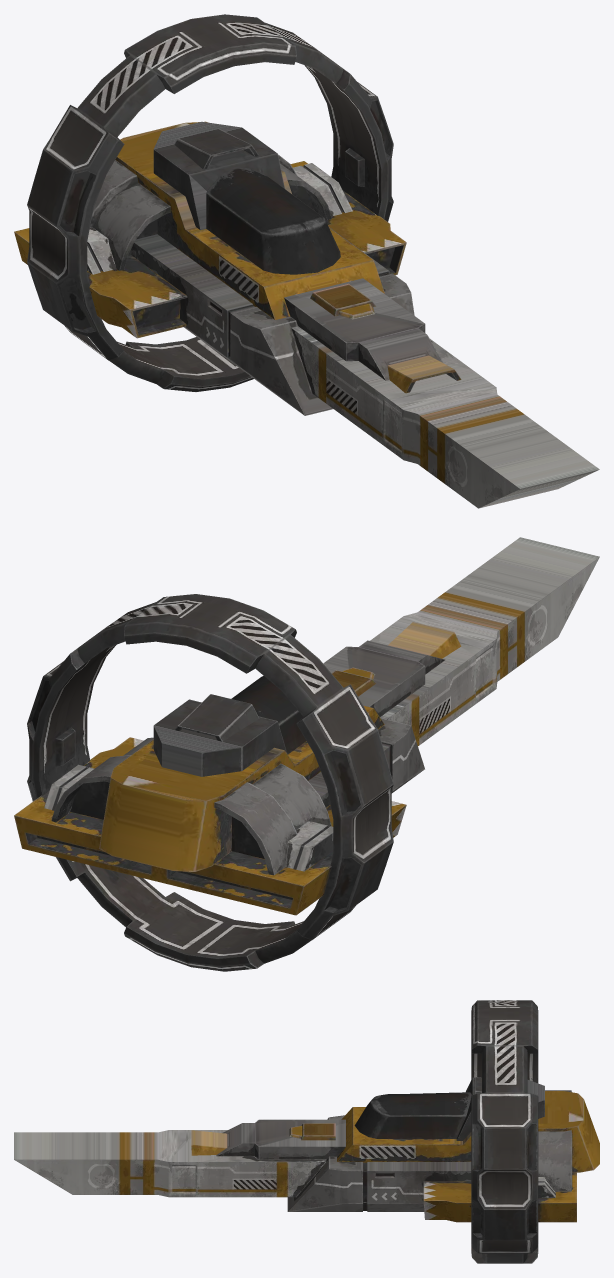
File: quaternius-spaceships-zenith.glb
3 views of the same model, one above another, from view 1: azimuth 30°, elevation 25°; view 2: azimuth 150°, elevation 25°; view 3: azimuth 270°, elevation 25° (orthographic). The views are drawn at different scales.
Parts seen in each view (by area): view 1: Zenith; view 2: Zenith; view 3: Zenith.
Boxes of the visible parts, left/top/right/bottom form: Zenith: left=14, top=14, right=599, bottom=508; Zenith: left=14, top=537, right=599, bottom=971; Zenith: left=14, top=1000, right=599, bottom=1263.
Bounding box in the file's own units: 5.63 × 5.43 × 12.07.
1 material, 1 textured.
